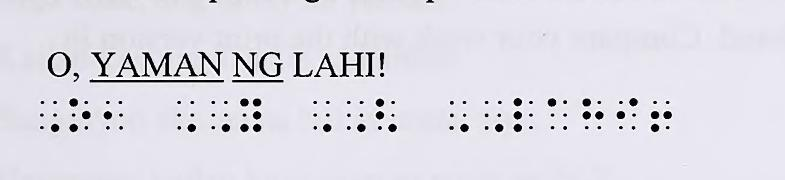capital_sign: (176, 99, 197, 131), (484, 99, 504, 132), (313, 99, 332, 133), (449, 100, 469, 132), (41, 99, 58, 134), (211, 101, 229, 132), (347, 101, 365, 131)
letter_H: (582, 98, 604, 130)
letter_I: (617, 98, 639, 131)
letter_L: (514, 98, 534, 132)
letter_O: (69, 97, 92, 132)
letter_a: (549, 99, 569, 131)
one_cell_alphabet_yaman: (241, 97, 262, 132)
one_cell_non_alphabet_ng: (376, 98, 398, 132)
